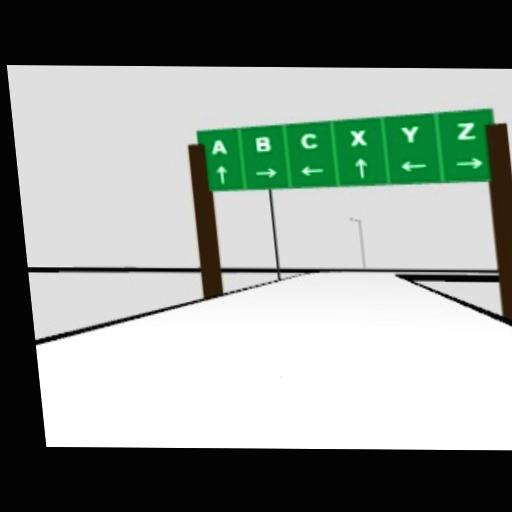A: (210, 137, 226, 154)
B: (254, 135, 272, 153)
C: (298, 132, 318, 150)
Left: (399, 160, 429, 172), (299, 164, 328, 176)
Right: (454, 158, 484, 169), (255, 167, 281, 179)
Straight: (215, 165, 230, 186), (353, 157, 368, 178)
X: (348, 128, 366, 147)
Y: (400, 125, 420, 143)
Z: (455, 121, 478, 140)
